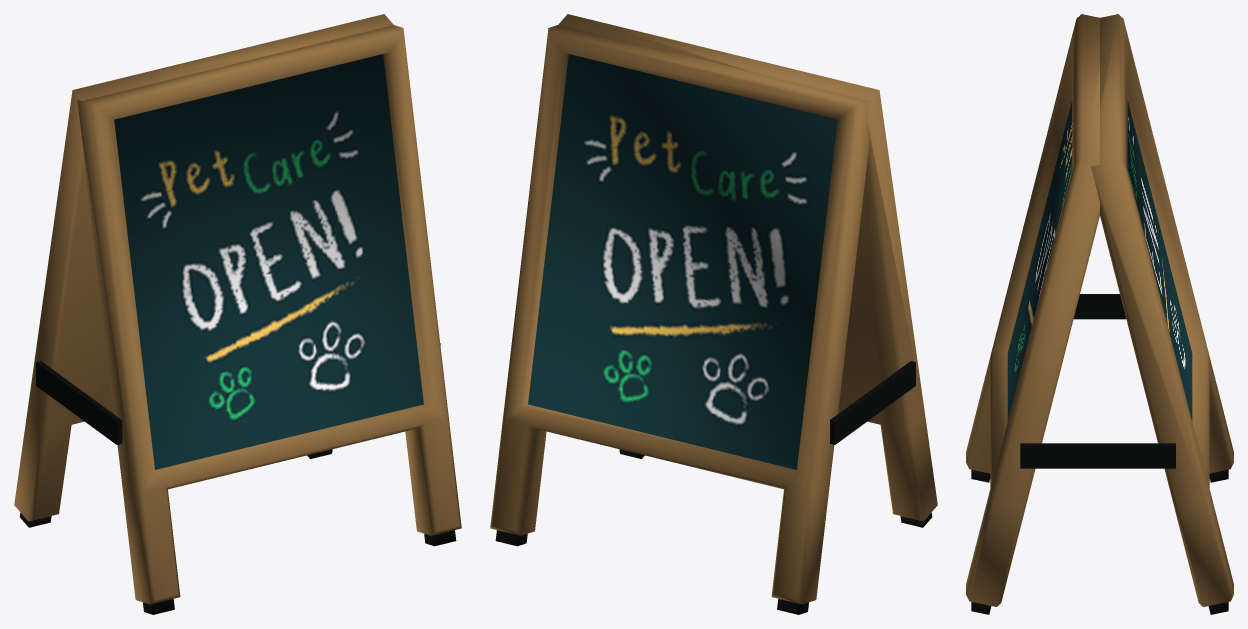
Rendered from SM_Prop_Sign.fbx.
The picture shows the model from 3 angles, left to right: view 1: azimuth 30°, elevation 25°; view 2: azimuth 150°, elevation 25°; view 3: azimuth 270°, elevation 25°; orthographic projection. The views are drawn at different scales.
Parts seen in each view (by area): view 1: SM_Prop_Sign; view 2: SM_Prop_Sign; view 3: SM_Prop_Sign.
Part boxes in pixels (<box>): SM_Prop_Sign: <box>14,14,461,614</box>; SM_Prop_Sign: <box>490,14,937,614</box>; SM_Prop_Sign: <box>966,14,1233,614</box>.
Size of the model in its own units: 1.03 by 1.44 by 0.7653.
Materials: 1 (1 with a texture image).
